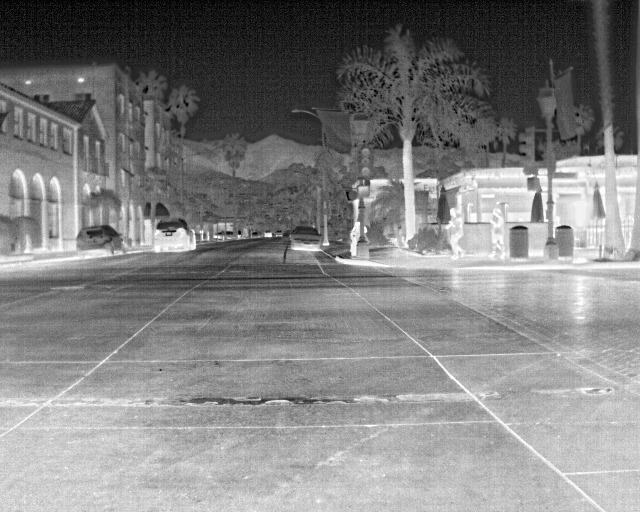bicycle: (73, 225, 128, 258), (149, 218, 195, 255), (285, 224, 327, 254)
empty: (445, 207, 465, 259), (486, 206, 505, 258), (349, 218, 362, 257)
